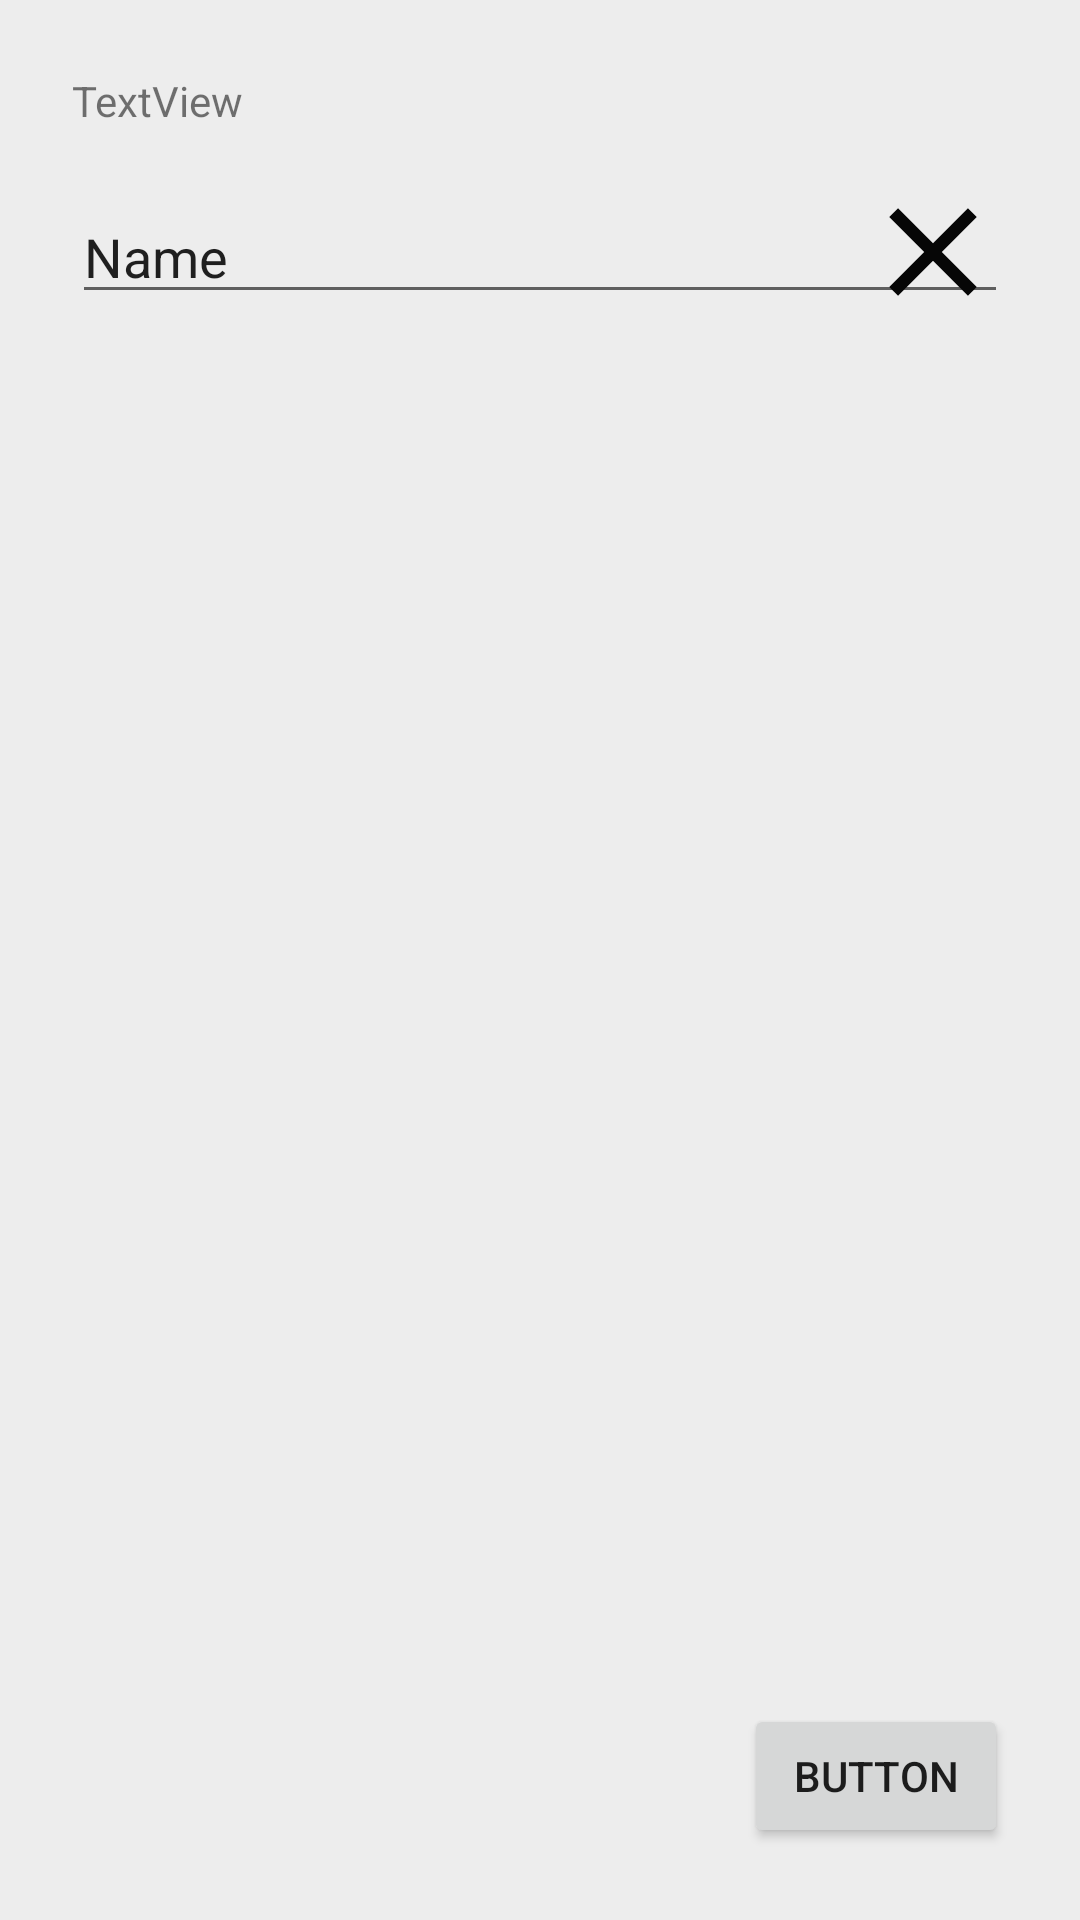

Locate icon controls on the screen. Image size 1080 × 1920, boxes as Rect(x1, y1, x2, y2).
close: Rect(858, 208, 996, 296)
